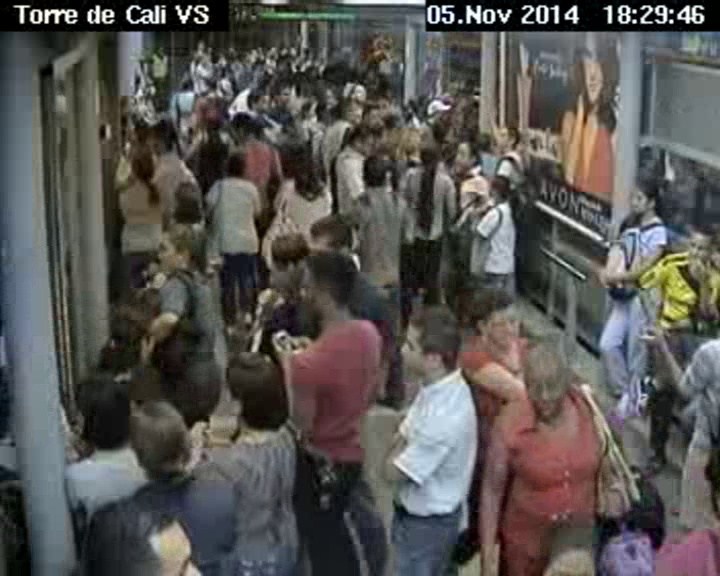person: (72, 483, 217, 576), (516, 328, 575, 429), (395, 297, 461, 383), (127, 393, 198, 469), (64, 372, 135, 447), (461, 283, 526, 358), (221, 344, 289, 415), (261, 224, 312, 294), (152, 217, 211, 272), (296, 257, 353, 312), (300, 212, 359, 261), (356, 154, 393, 197), (630, 176, 667, 216), (167, 181, 208, 217), (685, 225, 715, 272), (341, 117, 376, 154), (453, 134, 482, 178), (414, 136, 447, 174), (288, 142, 317, 183), (487, 172, 518, 210), (146, 119, 178, 151), (193, 99, 224, 132), (125, 143, 153, 179), (216, 146, 247, 177), (247, 83, 276, 115), (228, 107, 254, 140), (343, 77, 368, 109), (493, 122, 519, 151), (424, 97, 450, 124), (115, 95, 138, 120), (320, 85, 342, 109), (272, 85, 292, 101), (176, 78, 191, 92), (152, 43, 165, 55)
